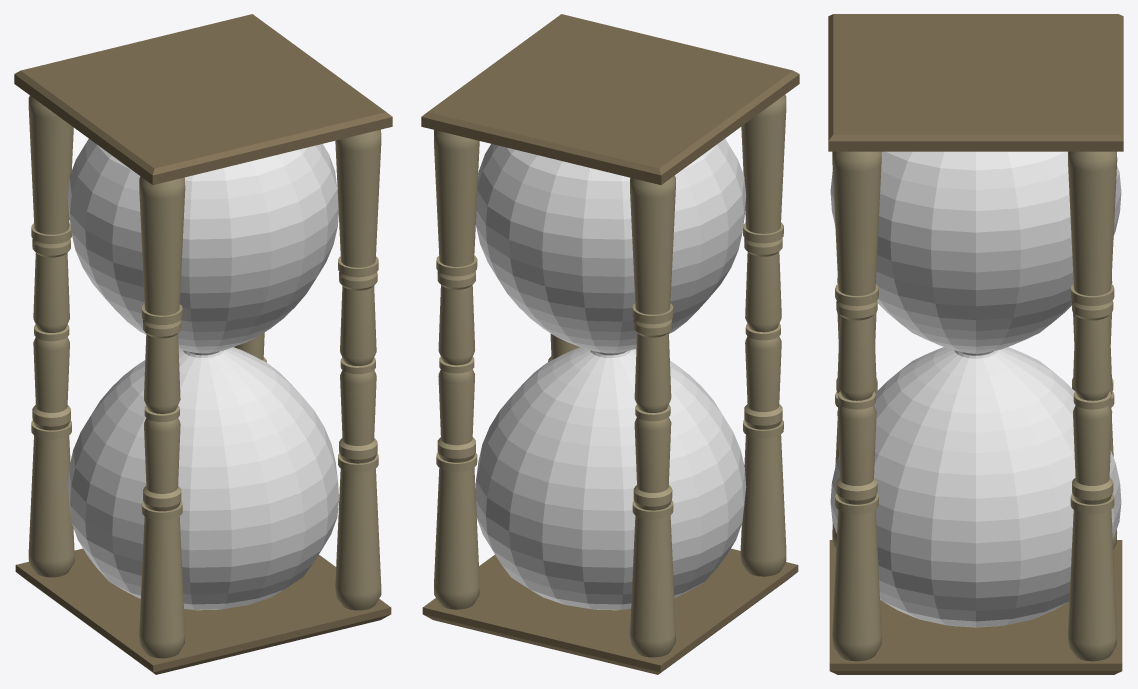
File: obj_hourglass_01.fbx
The picture shows the model from 3 angles, left to right: view 1: azimuth 30°, elevation 25°; view 2: azimuth 150°, elevation 25°; view 3: azimuth 270°, elevation 25°; orthographic projection. The views are drawn at different scales.
Parts seen in each view (by area): view 1: pSphere3, pCube1, pCylinder11, pCylinder12, pCylinder10, pCube2; view 2: pSphere3, pCube1, pCylinder10, pCylinder9, pCylinder11, pCube2; view 3: pSphere3, pCube1, pCylinder12, pCylinder9, pCube2, pCylinder11.
Part boxes in pixels (bbox=[...]): pSphere3: bbox=[67, 139, 339, 610]; pCube1: bbox=[14, 14, 392, 184]; pCylinder11: bbox=[139, 176, 185, 658]; pCylinder12: bbox=[335, 129, 381, 610]; pCylinder10: bbox=[28, 95, 74, 577]; pCube2: bbox=[15, 548, 391, 674]; pSphere3: bbox=[475, 139, 746, 610]; pCube1: bbox=[421, 14, 799, 184]; pCylinder10: bbox=[630, 175, 675, 657]; pCylinder9: bbox=[434, 130, 479, 609]; pCylinder11: bbox=[740, 95, 786, 576]; pCube2: bbox=[422, 548, 798, 674]; pSphere3: bbox=[830, 151, 1121, 627]; pCube1: bbox=[828, 14, 1123, 151]; pCylinder12: bbox=[832, 151, 881, 661]; pCylinder9: bbox=[1068, 151, 1117, 661]; pCube2: bbox=[829, 540, 1122, 674]; pCylinder11: bbox=[832, 278, 877, 548].
Bounding box in the file's own units: 2.1 × 4.26 × 2.1.
